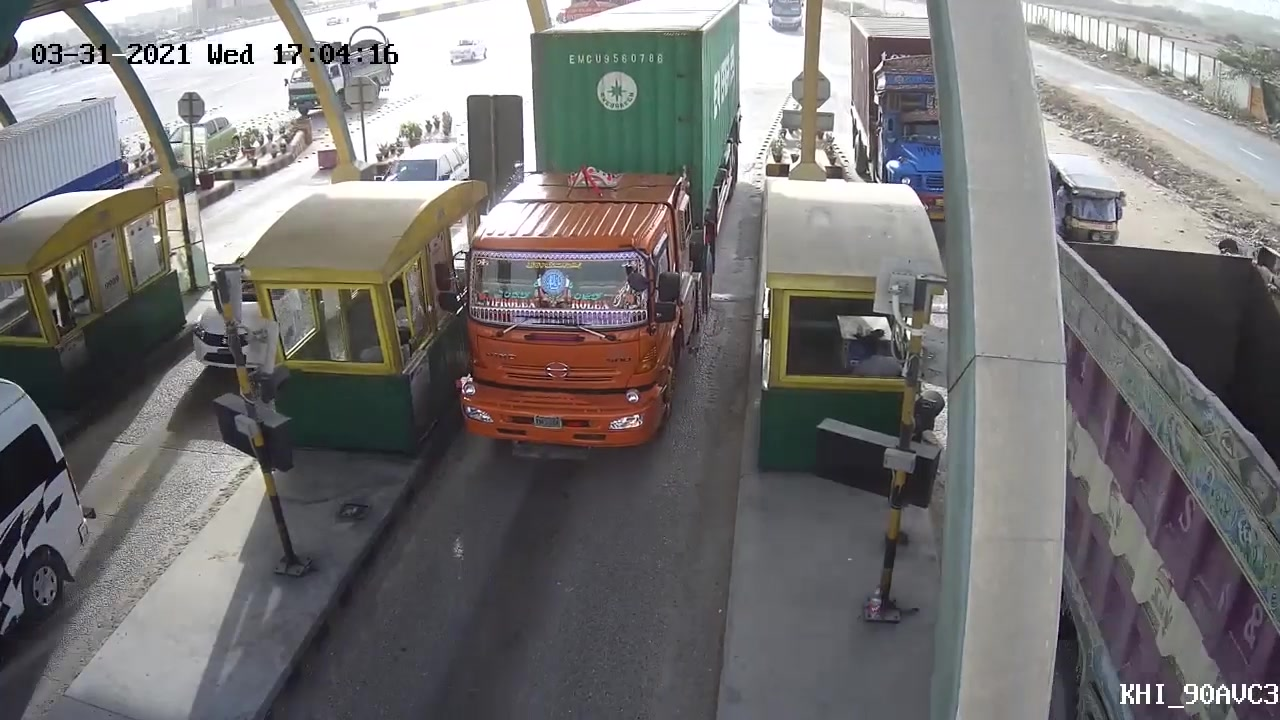F6: (448, 2, 749, 459)
